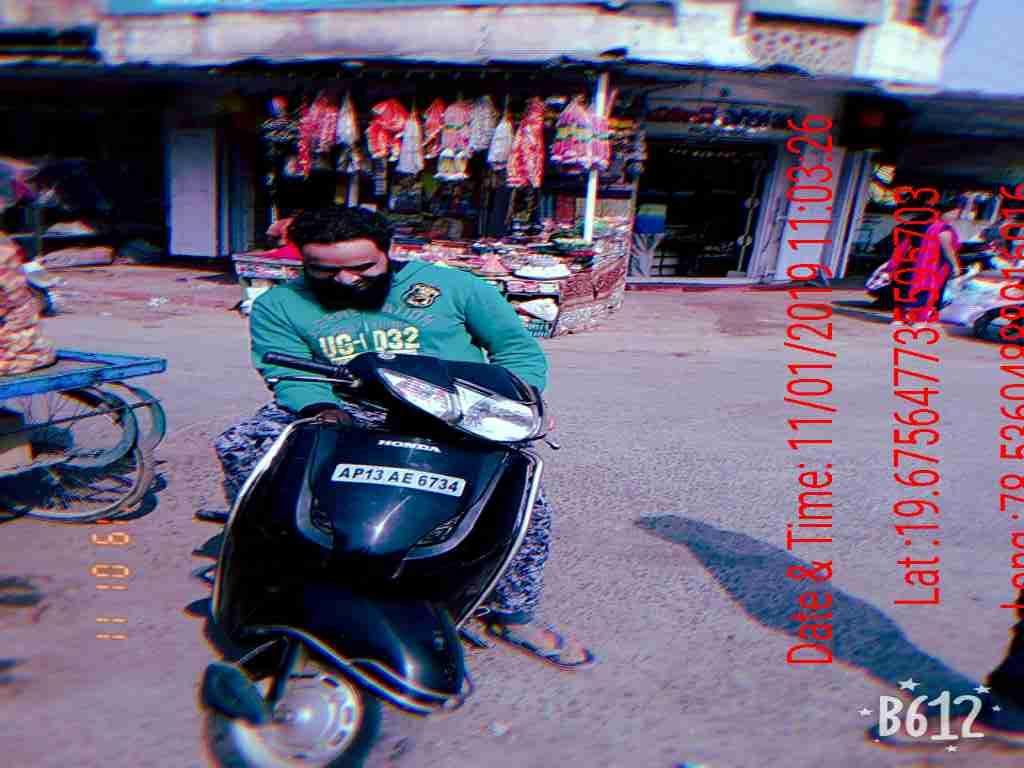plate: (327, 461, 474, 509)
